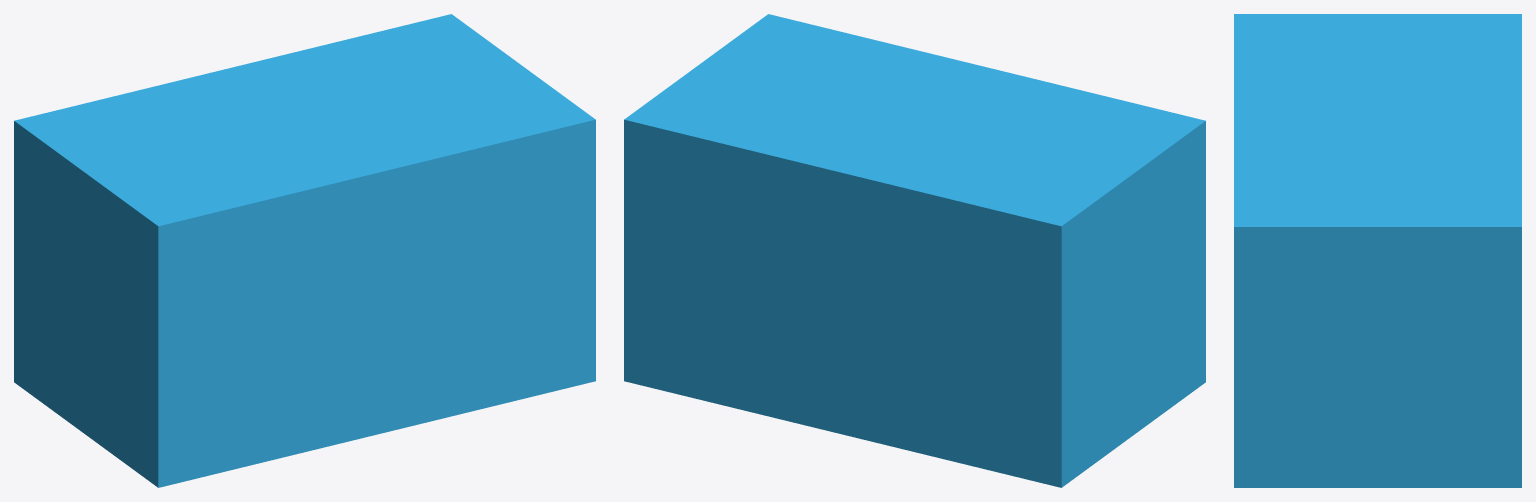
Rendered from separated-roundtrip.glb.
The picture shows the model from 3 angles, left to right: view 1: azimuth 30°, elevation 25°; view 2: azimuth 150°, elevation 25°; view 3: azimuth 270°, elevation 25°; orthographic projection.
Parts seen in each view (by area): view 1: Box_2_Part2, Studio_Cube; view 2: Box_2_Part2, Studio_Cube; view 3: Studio_Cube, Box_2_Part2.
Part boxes in pixels (left/top/right/bottom): Box_2_Part2: left=14, top=60, right=407, bottom=487; Studio_Cube: left=205, top=14, right=595, bottom=441; Box_2_Part2: left=812, top=60, right=1205, bottom=487; Studio_Cube: left=624, top=14, right=1010, bottom=441; Studio_Cube: left=1234, top=105, right=1521, bottom=487; Box_2_Part2: left=1234, top=14, right=1521, bottom=135.
Size of the model in its own units: 1.75 by 1 by 1.
